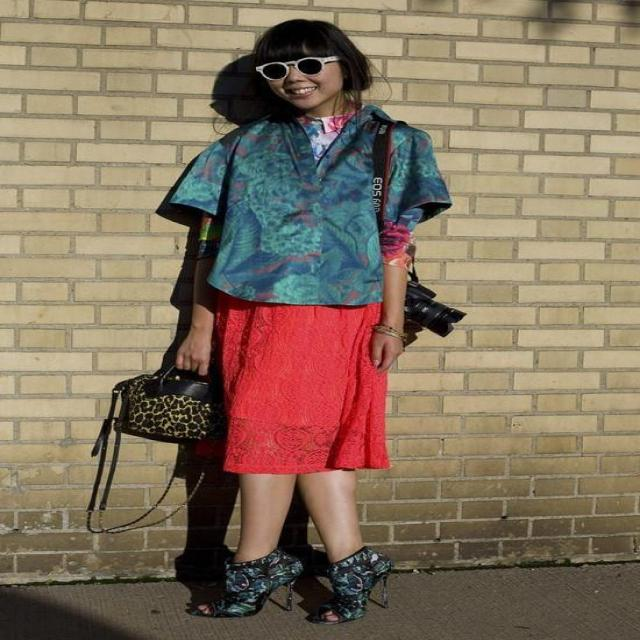shirt: (165, 106, 447, 306)
skirt: (208, 286, 389, 476)
